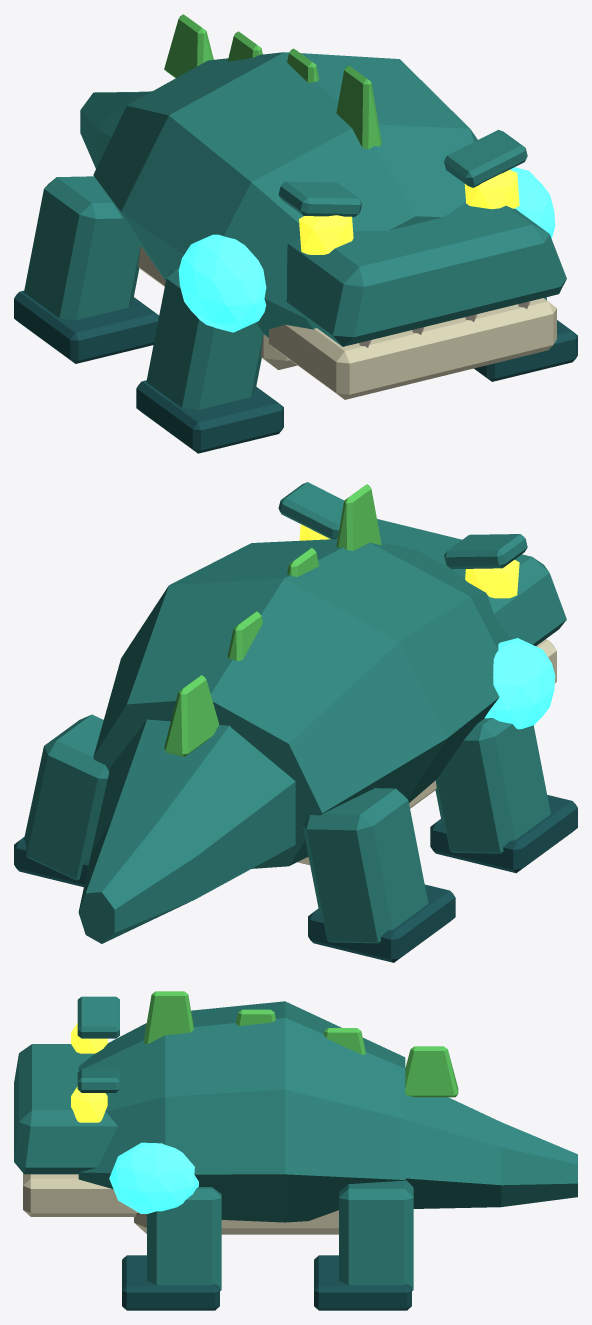
The model's file is EM_Mob_RiverSnapper.glb.
The picture shows the model from 3 angles, top to bottom: view 1: azimuth 30°, elevation 25°; view 2: azimuth 150°, elevation 25°; view 3: azimuth 270°, elevation 25°; orthographic projection. The views are drawn at different scales.
Visible parts, largest first — view 1: RiverSnapper__Body__SnapperTeal, RiverSnapper__Head__SnapperTeal, RiverSnapper__Legs__SnapperTeal, RiverSnapper__Jaw__SnapperBelly, RiverSnapper__Legs__SnapperDeep, RiverSnapper__Head__AquaGlow, RiverSnapper__Body__MossBright, RiverSnapper__Head__AmberGlow, RiverSnapper__Tail__SnapperTeal, RiverSnapper__Body__SnapperBelly; view 2: RiverSnapper__Body__SnapperTeal, RiverSnapper__Legs__SnapperTeal, RiverSnapper__Tail__SnapperTeal, RiverSnapper__Head__SnapperTeal, RiverSnapper__Legs__SnapperDeep, RiverSnapper__Body__MossBright, RiverSnapper__Head__AquaGlow, RiverSnapper__Head__AmberGlow; view 3: RiverSnapper__Body__SnapperTeal, RiverSnapper__Tail__SnapperTeal, RiverSnapper__Legs__SnapperTeal, RiverSnapper__Head__SnapperTeal, RiverSnapper__Legs__SnapperDeep, RiverSnapper__Body__MossBright, RiverSnapper__Head__AquaGlow, RiverSnapper__Jaw__SnapperBelly, RiverSnapper__Body__SnapperBelly, RiverSnapper__Head__AmberGlow.
Part boxes in pixels (x1,y1,x2,y2): RiverSnapper__Body__SnapperTeal: (93,52,477,337); RiverSnapper__Head__SnapperTeal: (278,129,566,346); RiverSnapper__Legs__SnapperTeal: (24,176,546,409); RiverSnapper__Jaw__SnapperBelly: (269,298,556,399); RiverSnapper__Legs__SnapperDeep: (14,290,577,453); RiverSnapper__Head__AquaGlow: (178,167,555,332); RiverSnapper__Body__MossBright: (164,14,381,149); RiverSnapper__Head__AmberGlow: (299,170,519,254); RiverSnapper__Tail__SnapperTeal: (80,91,152,168); RiverSnapper__Body__SnapperBelly: (138,245,297,369); RiverSnapper__Body__SnapperTeal: (93,539,510,868); RiverSnapper__Legs__SnapperTeal: (24,714,550,943); RiverSnapper__Tail__SnapperTeal: (78,719,295,943); RiverSnapper__Head__SnapperTeal: (278,482,566,645); RiverSnapper__Legs__SnapperDeep: (14,795,577,962); RiverSnapper__Body__MossBright: (164,484,381,756); RiverSnapper__Head__AquaGlow: (485,638,555,729); RiverSnapper__Head__AmberGlow: (299,524,519,598); RiverSnapper__Body__SnapperTeal: (78,1001,405,1222); RiverSnapper__Tail__SnapperTeal: (405,1094,577,1208); RiverSnapper__Legs__SnapperTeal: (147,1179,413,1290); RiverSnapper__Head__SnapperTeal: (14,996,119,1174); RiverSnapper__Legs__SnapperDeep: (122,1255,411,1310); RiverSnapper__Body__MossBright: (144,991,458,1097); RiverSnapper__Head__AquaGlow: (109,1142,198,1213); RiverSnapper__Jaw__SnapperBelly: (23,1173,139,1216); RiverSnapper__Body__SnapperBelly: (134,1210,338,1234); RiverSnapper__Head__AmberGlow: (71,1023,107,1122).
Size of the model in its own units: 3.95 by 3.1 by 6.39.
